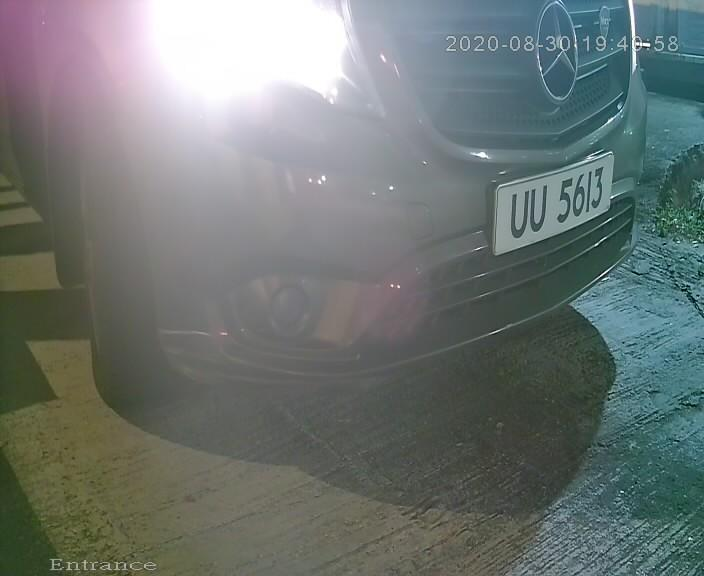License Plate: (481, 139, 613, 263)
